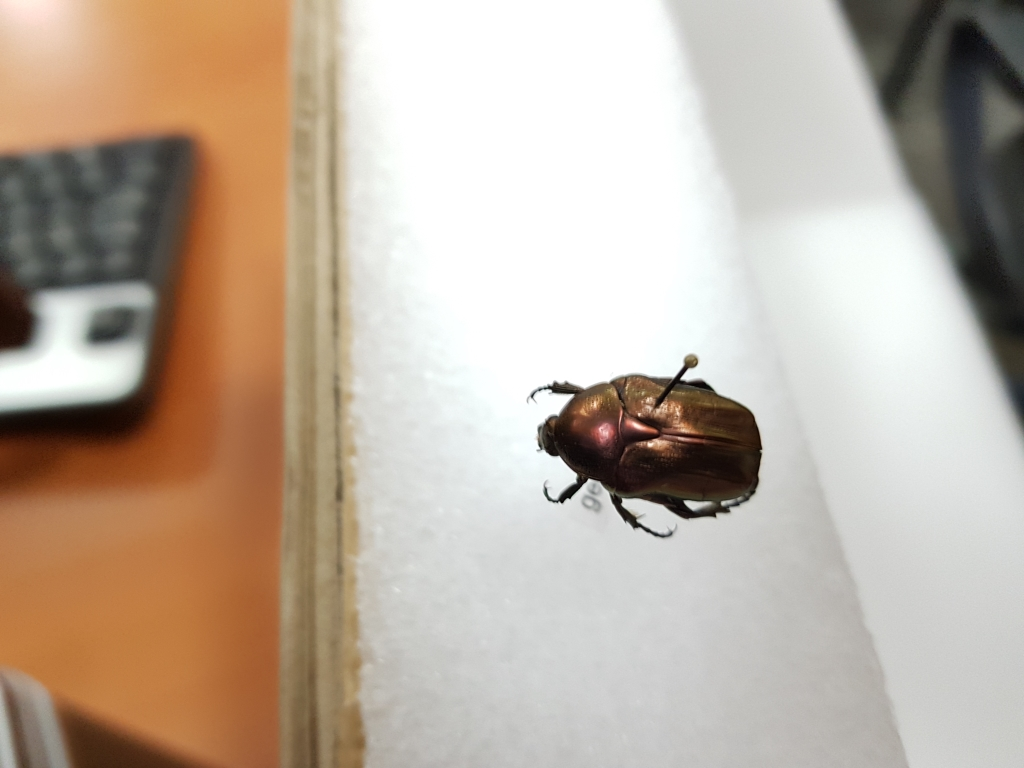Cetonia_aurata: (518, 367, 768, 543)
